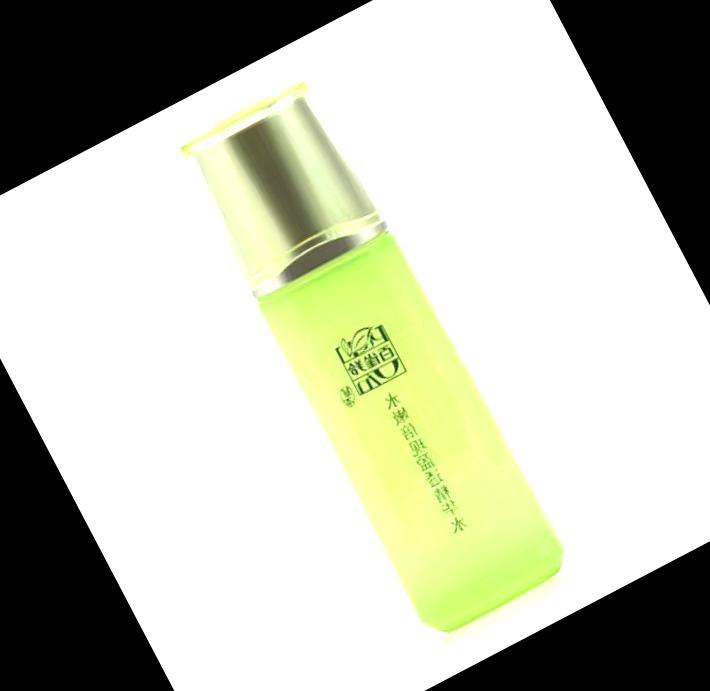cosmetic: (167, 72, 562, 631)
